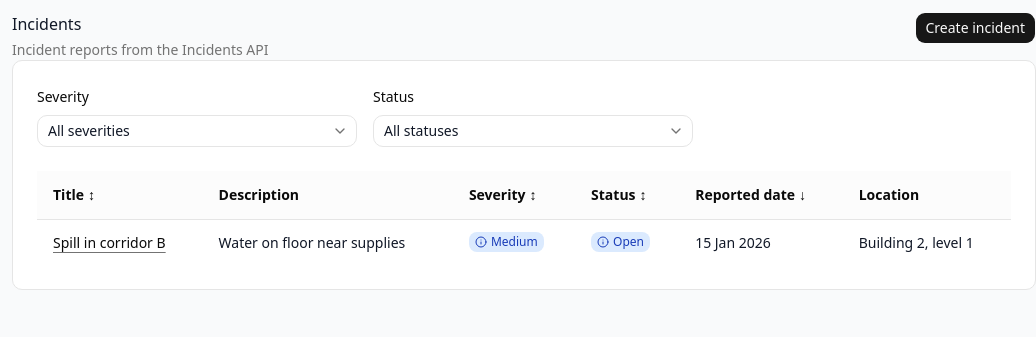
IncidentsView › shows filtered empty message when severity filter is active and no incidents match
Check: the element named "Incidents list, scrollable" is shown, box [37,171,1011,265]
Click the dropdown named "Severity" at (89, 130), box [37,115,357,147]
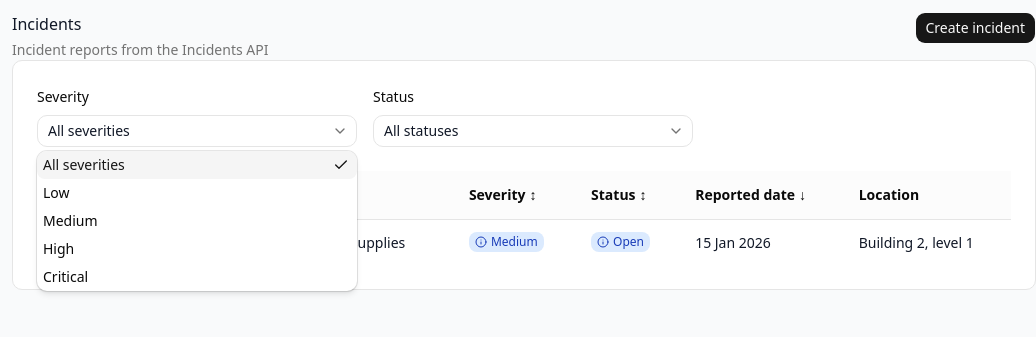
Click the option "High" at (59, 248), box [43,239,74,258]
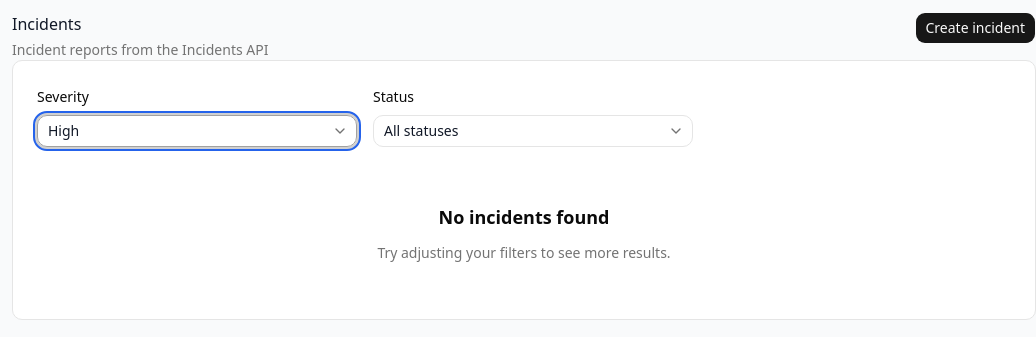
Check: the text "Try adjusting your filters to see more results." is shown, box [377,243,671,263]
